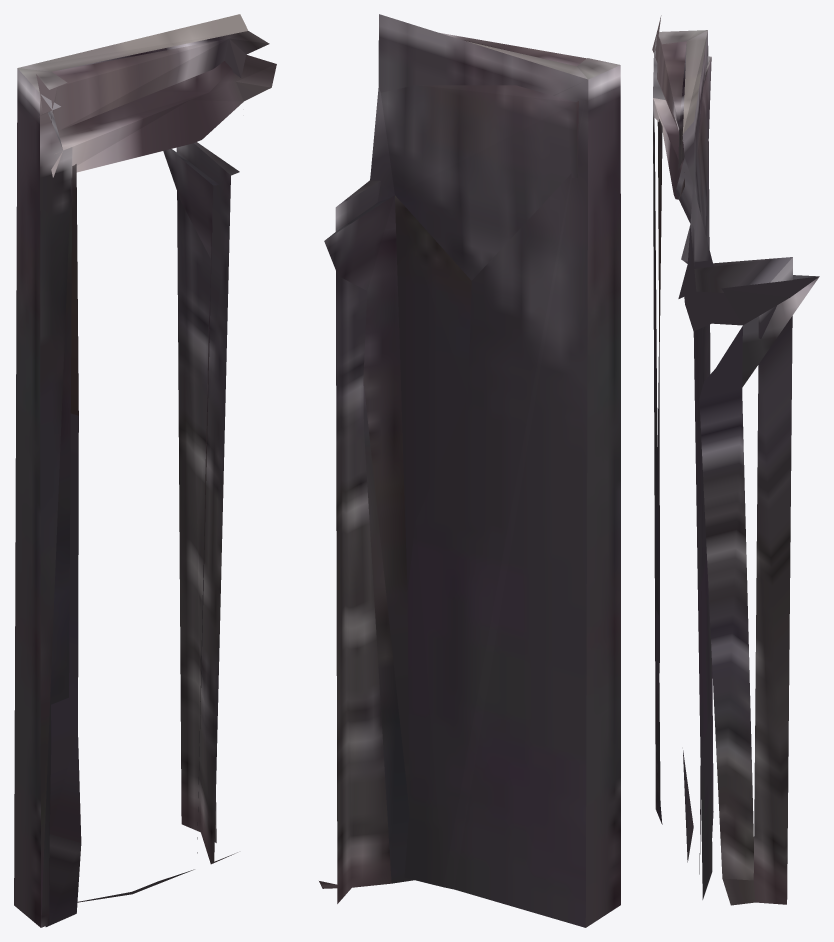
The picture shows the model from 3 angles, left to right: view 1: azimuth 30°, elevation 25°; view 2: azimuth 150°, elevation 25°; view 3: azimuth 270°, elevation 25°; orthographic projection. The views are drawn at different scales.
Parts seen in each view (by area): view 1: Mesh_0; view 2: Mesh_0; view 3: Mesh_0.
Part boxes in pixels (bbox=[...]): Mesh_0: bbox=[14, 14, 276, 927]; Mesh_0: bbox=[319, 14, 620, 927]; Mesh_0: bbox=[652, 15, 819, 905].
Size of the model in its own units: 7.74 by 25.08 by 4.78.
1 material, 1 textured.
